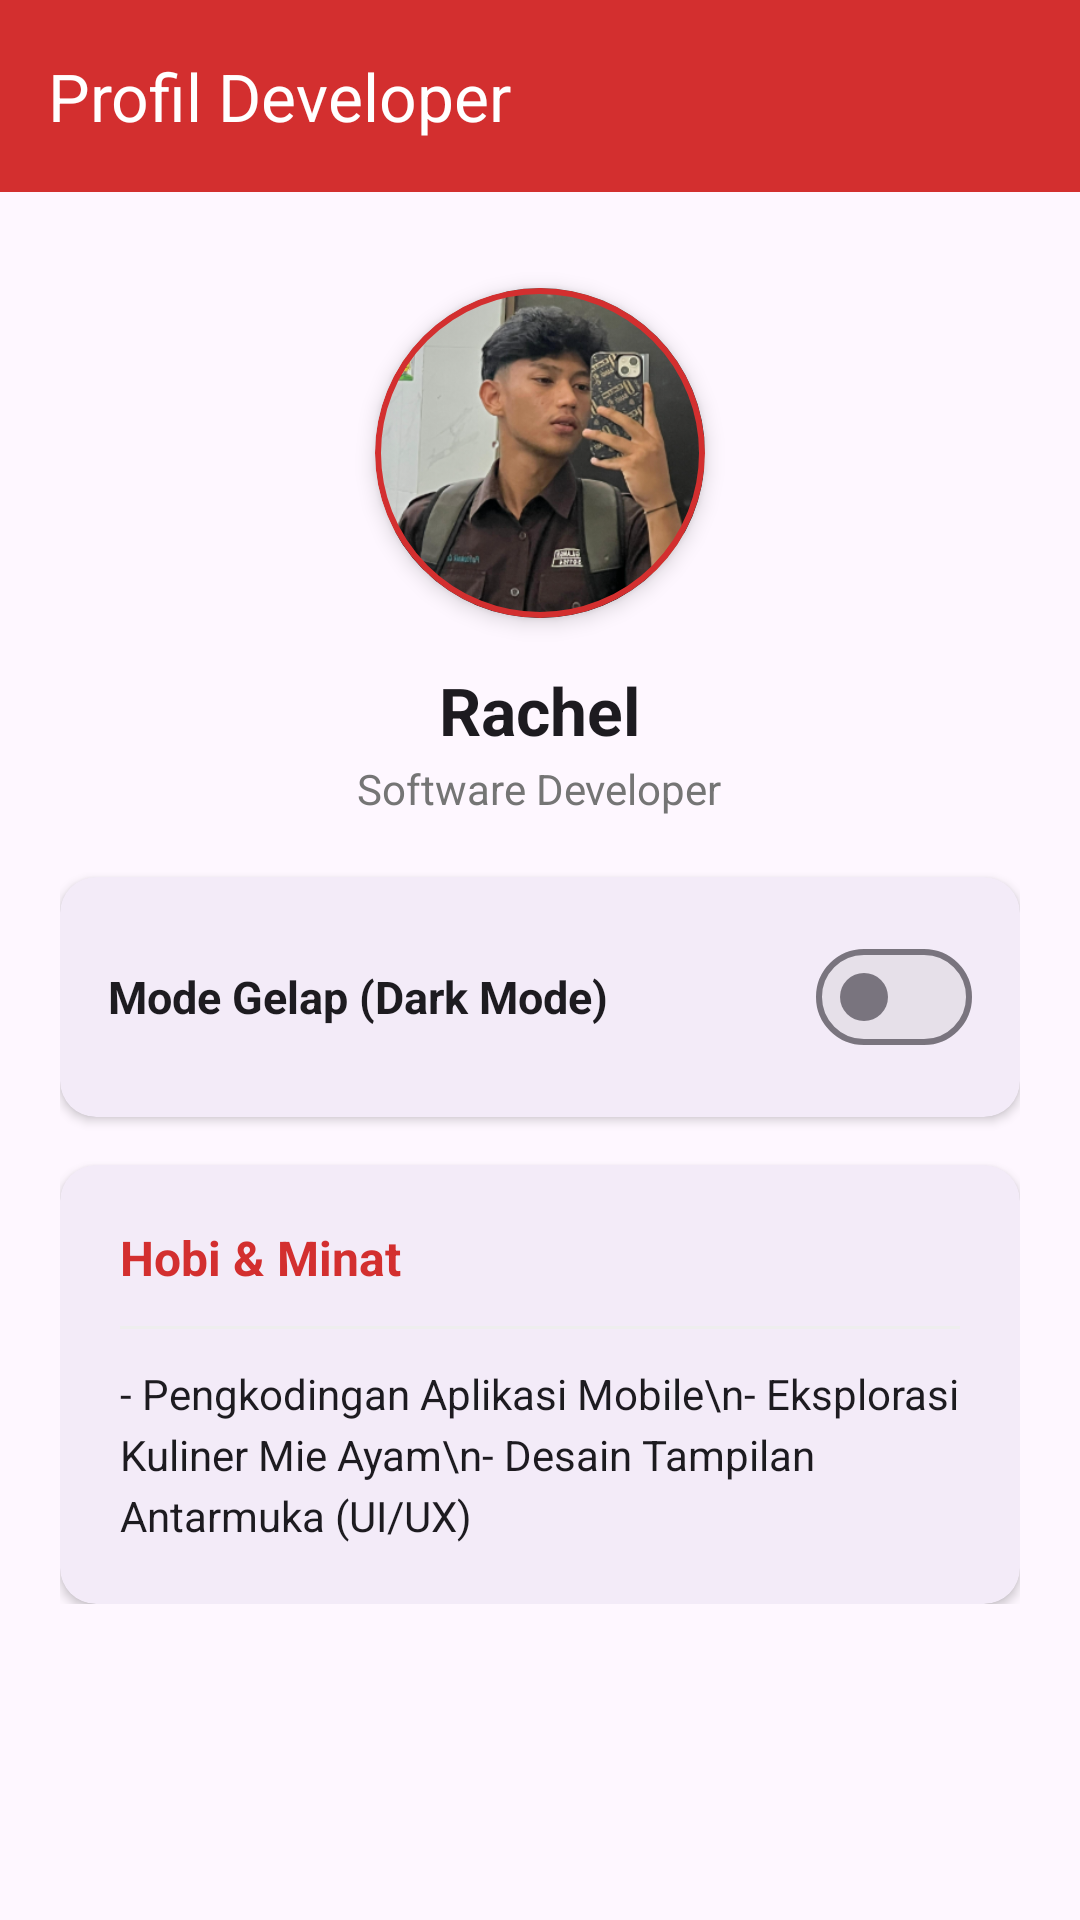

Icon click points for this 1080*1920 phone screenshot, format point (x, y):
Foto Profil: point (540, 453)
